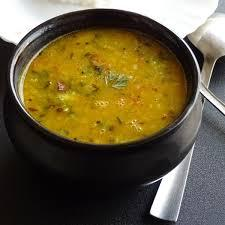varan: (21, 24, 199, 140)
